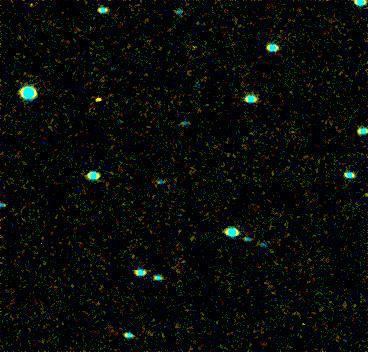star: (85, 83, 115, 113)
